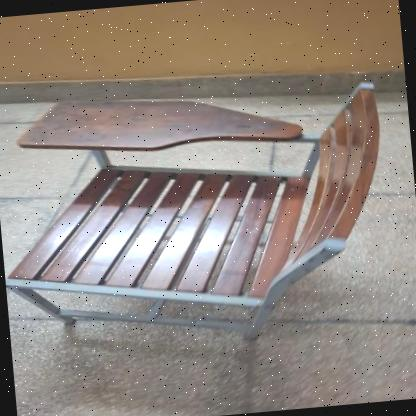chair: (0, 62, 405, 365)
